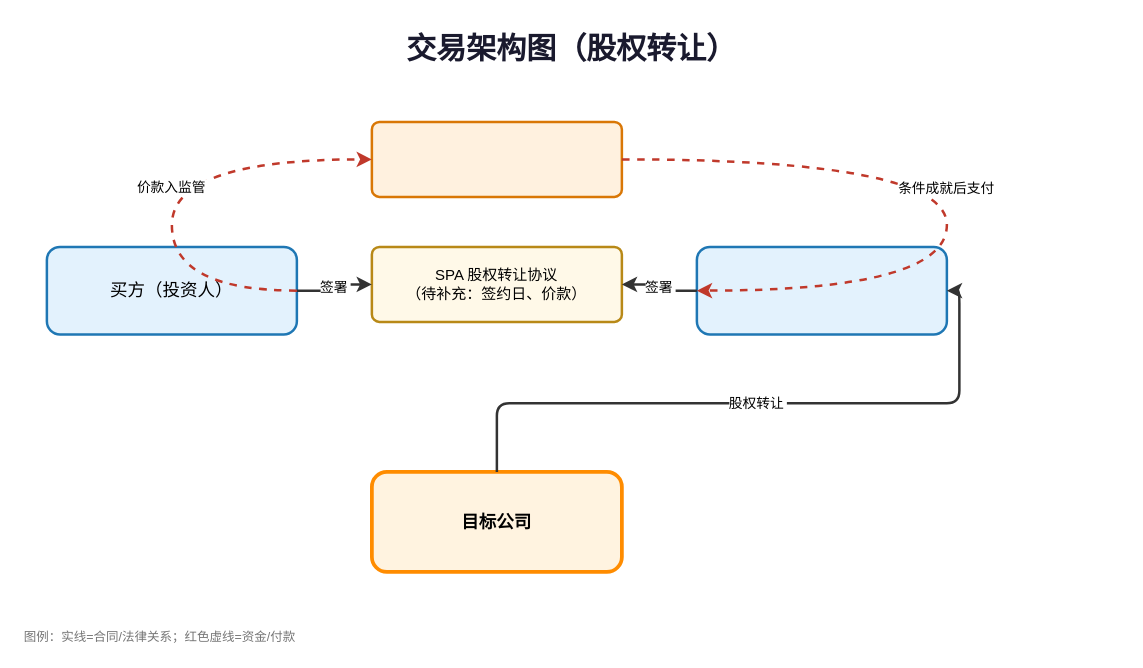
Image size: 1143x668. Some labels were removed from this diagram. Each missing label, with the centre of its shape:
卖方（创始股东）: point 821,290
资金监管账户 （待补充：开户行）: point 496,159
